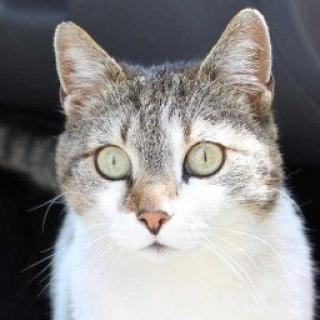cat: (53, 19, 284, 268)
nose: (136, 201, 172, 238)
